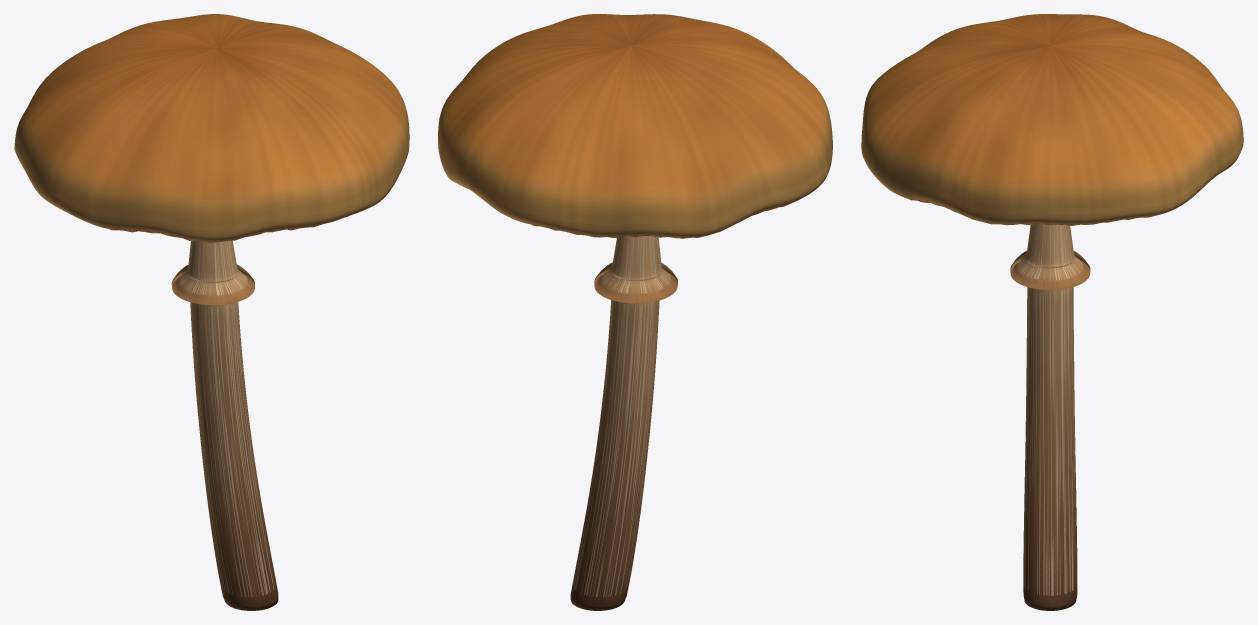
Rendered from galerina-marginata-drawn.glb.
3 renders of one model, left to right at view 1: azimuth 30°, elevation 25°; view 2: azimuth 150°, elevation 25°; view 3: azimuth 270°, elevation 25°, orthographic. The views are drawn at different scales.
Size of the model in its own units: 0.597 by 0.925 by 0.5946.
1 material, 1 textured.
